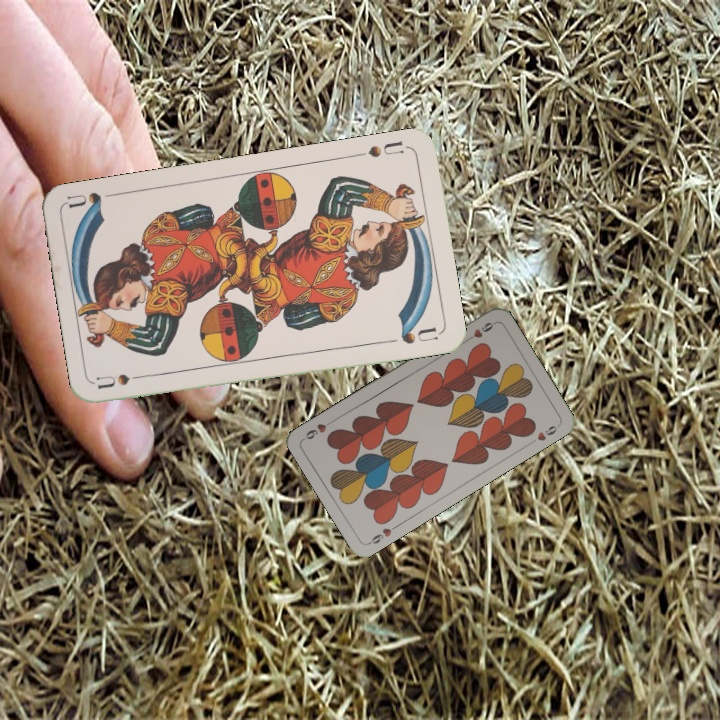H9: (461, 318, 498, 345), (364, 524, 394, 547)
SU: (94, 369, 153, 391), (364, 136, 406, 160)
